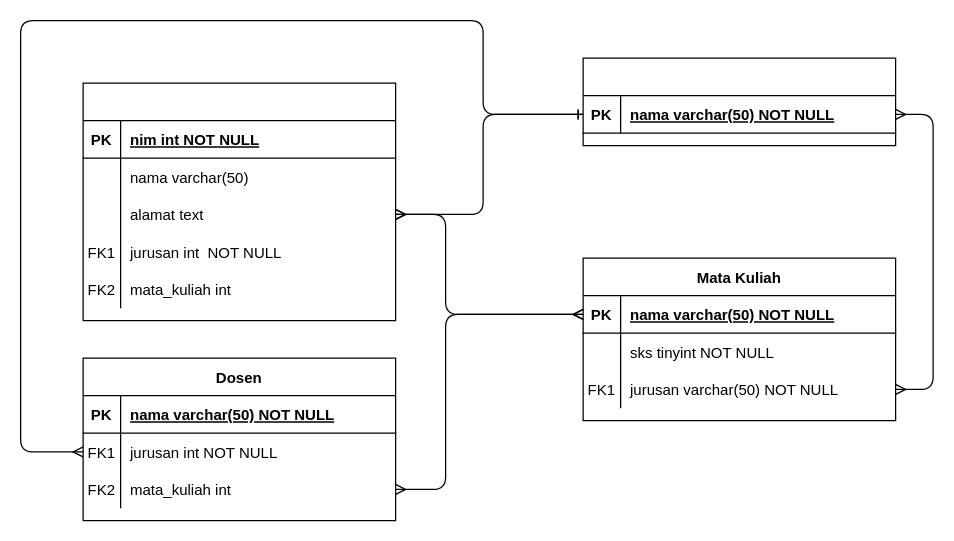
This 954x541 diagram has some shape labels left out. The shapes that lost their labels are listed below. From the top down, each one's box as (x1, y1, x2, y2) in pixels, then its label:
(582, 57, 896, 146): Jurusan
(82, 82, 396, 321): Mahasiswa
